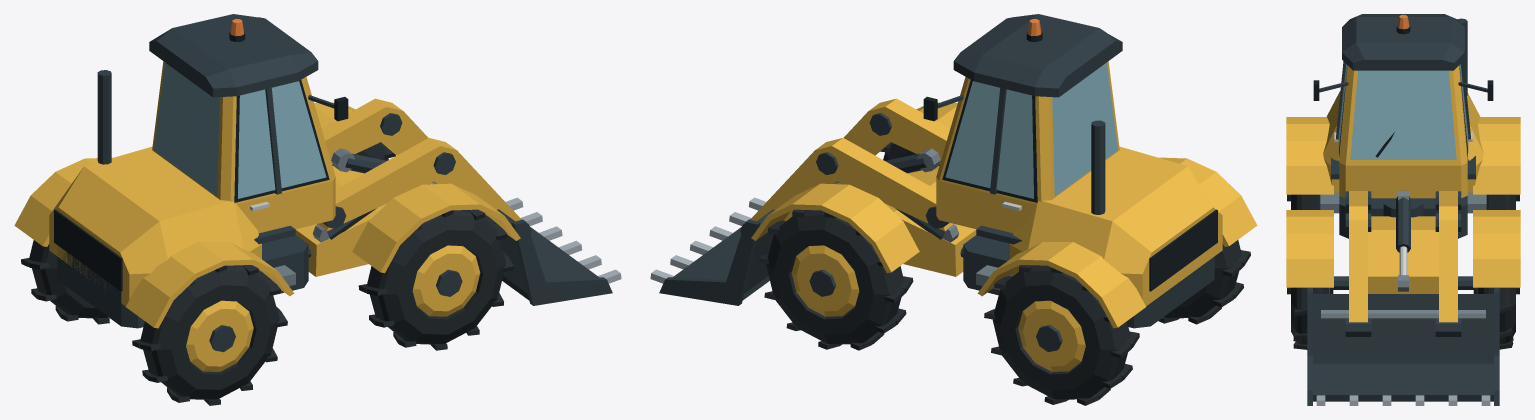
Rendered from b07_articulated_wheel_loader.glb.
The picture shows the model from 3 angles, left to right: view 1: azimuth 30°, elevation 25°; view 2: azimuth 150°, elevation 25°; view 3: azimuth 270°, elevation 25°; orthographic projection. The views are drawn at different scales.
Visible parts, largest first — view 1: b07_articulated_wheel_loader; view 2: b07_articulated_wheel_loader; view 3: b07_articulated_wheel_loader.
Part boxes in pixels (x1=…): b07_articulated_wheel_loader: x1=14, y1=14, x2=621, y2=405; b07_articulated_wheel_loader: x1=650, y1=14, x2=1257, y2=405; b07_articulated_wheel_loader: x1=1286, y1=14, x2=1520, y2=405.
Bounding box in the file's own units: 5.45 × 3.4 × 2.71.
